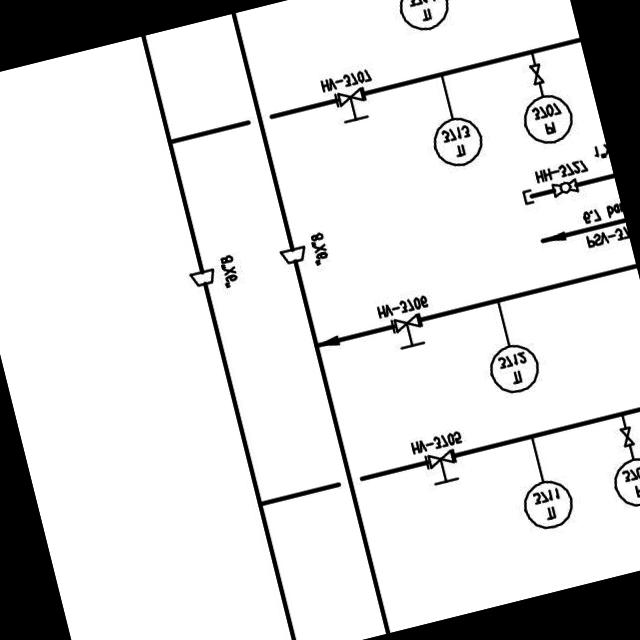BV2: (548, 174, 584, 198)
EC: (512, 181, 547, 209)
GV: (520, 59, 549, 92)
HVWT: (418, 444, 466, 489), (333, 84, 370, 130), (390, 311, 426, 353)
SP: (183, 263, 218, 293), (271, 242, 307, 268)
